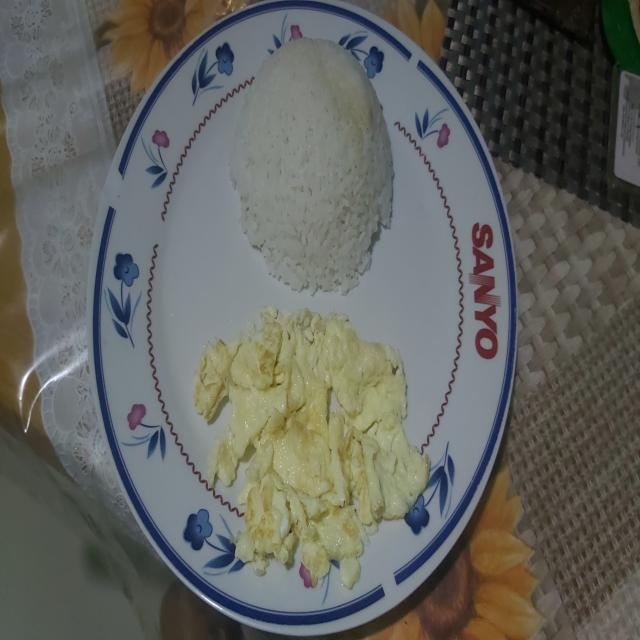Chicken -Chicken Inasal-: (229, 31, 394, 292)
